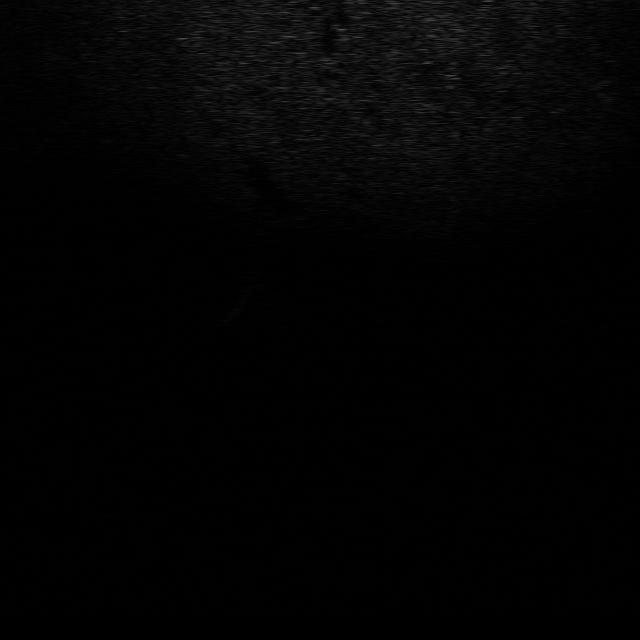human body: (206, 270, 262, 326)
